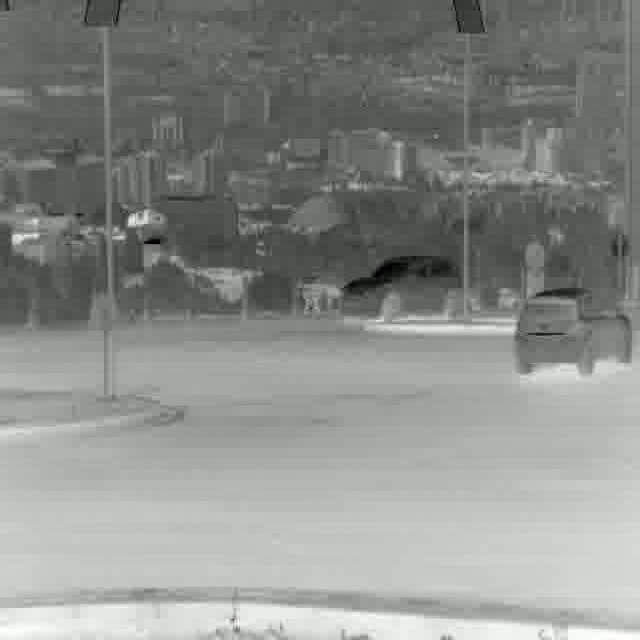Car: (514, 283, 632, 380), (342, 253, 463, 323)
